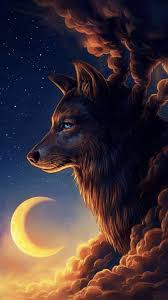Lobo: (10, 49, 130, 202)
